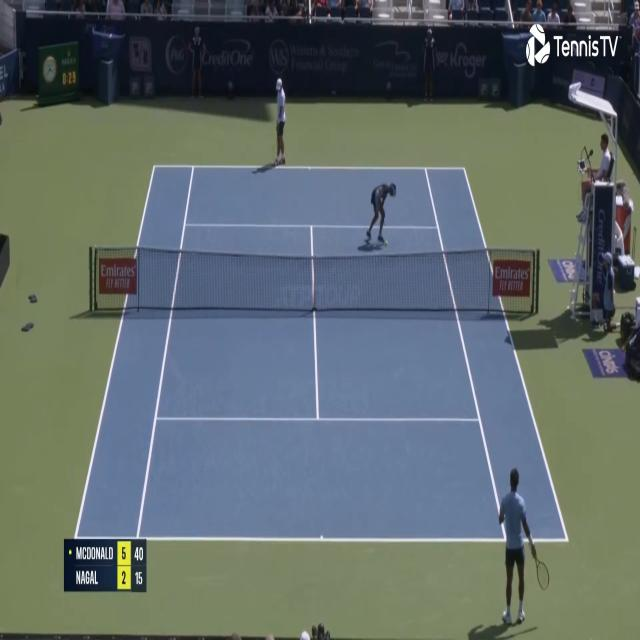tennis-player: (497, 462, 550, 634), (272, 75, 288, 169)
